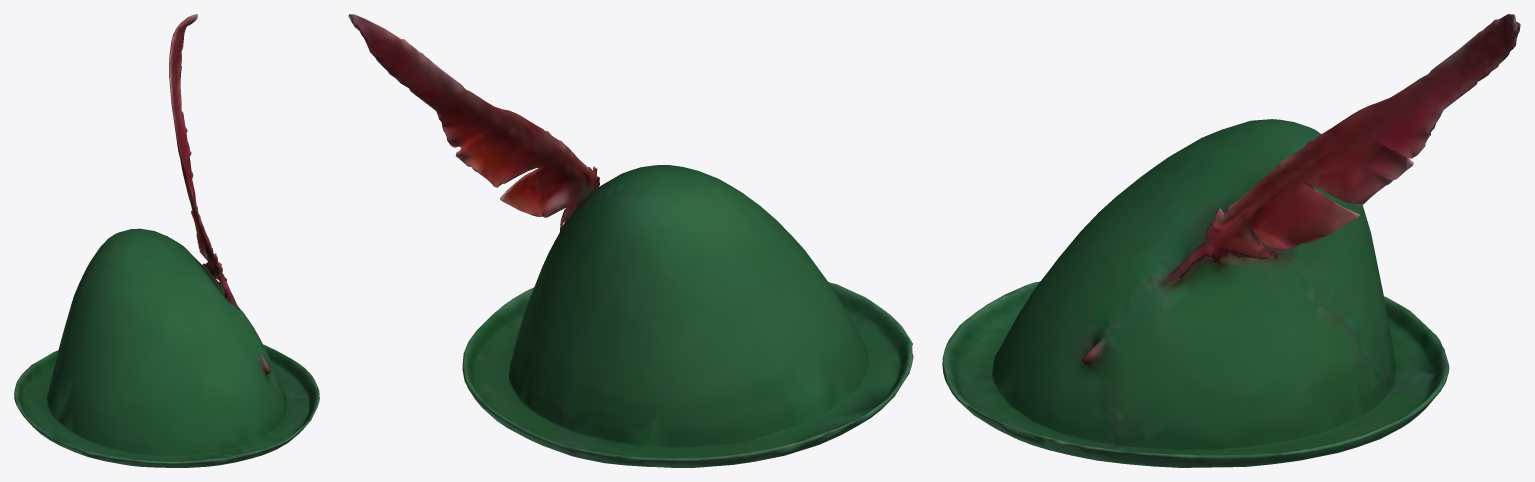
File: Object_REmvBDJStub-high.glb
3 views of the same model, side by side, from view 1: azimuth 30°, elevation 25°; view 2: azimuth 150°, elevation 25°; view 3: azimuth 270°, elevation 25° (orthographic). The views are drawn at different scales.
Visible parts, largest first — view 1: Object_REmvBDJStub; view 2: Object_REmvBDJStub; view 3: Object_REmvBDJStub.
Part boxes in pixels (left/top/right/bottom): Object_REmvBDJStub: left=14, top=14, right=319, bottom=467; Object_REmvBDJStub: left=348, top=14, right=913, bottom=467; Object_REmvBDJStub: left=942, top=14, right=1520, bottom=467.
Size of the model in its own units: 0.2358 by 0.2505 by 0.2847.
Materials: 1 (1 with a texture image).
